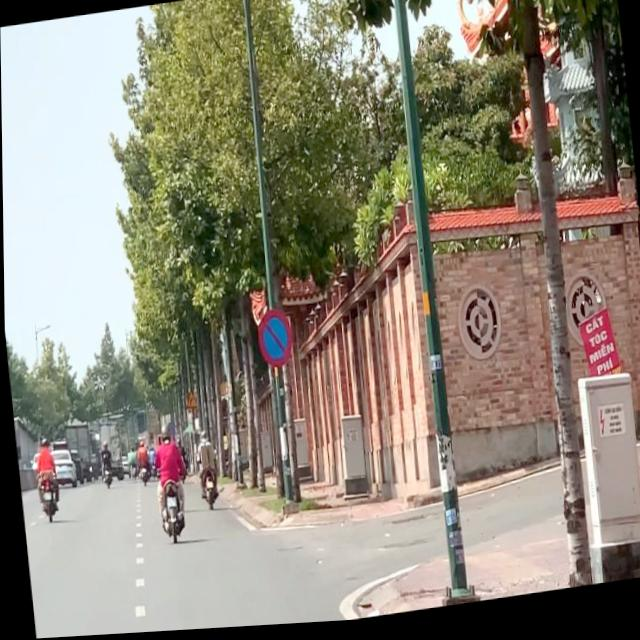Cam do xe: (253, 308, 294, 374)
cho ngoat nguy hiem vong ben phai: (184, 392, 196, 410)
